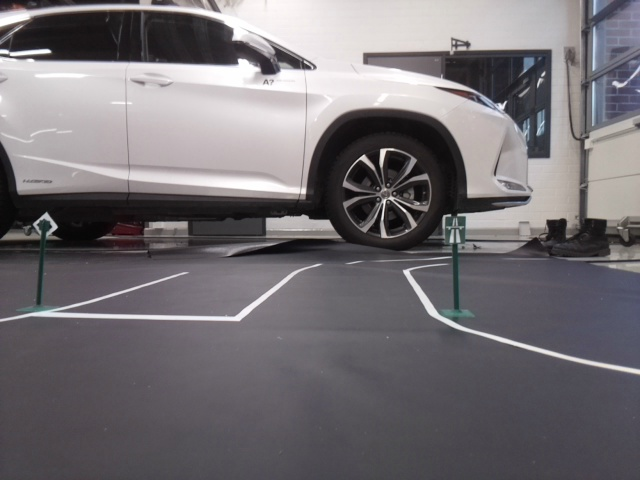HighwayEntrance: (444, 215, 464, 242)
